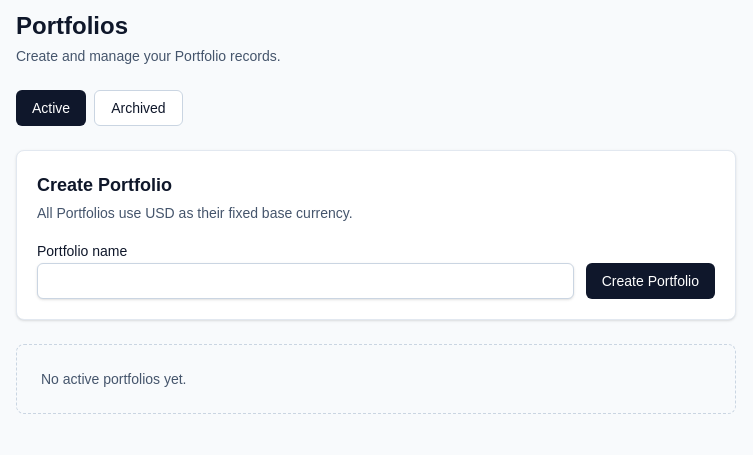
Test case: PortfolioListScreen › uses accessible client validation before create
This screenshot has width=753, height=455.
Click the button "Create Portfolio": x=650, y=281 x1=586 y1=263 x2=715 y2=299
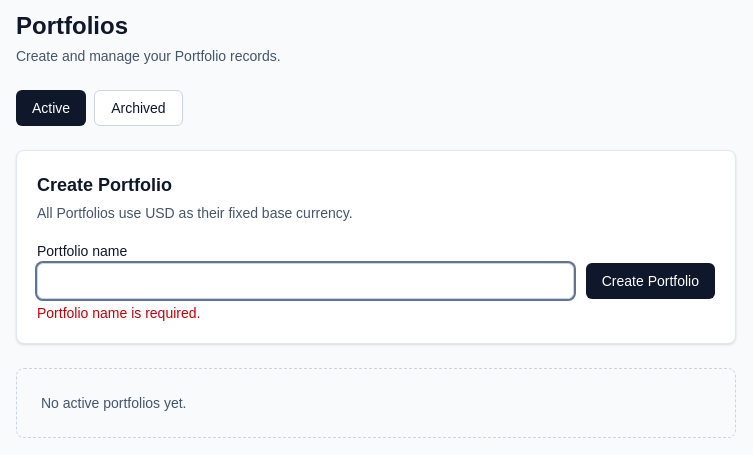
Expected: the message reads "Portfolio name is required.", x1=37 y1=305 x2=200 y2=321
